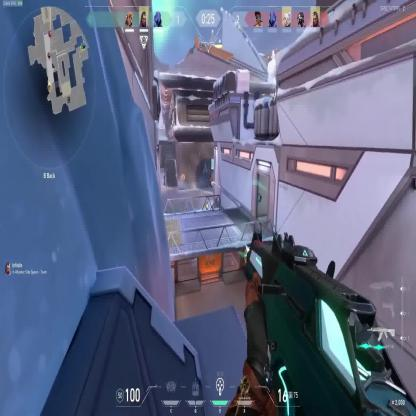enemy: (206, 201, 209, 212), (210, 177, 213, 188)
enemy_head: (206, 202, 208, 204), (210, 177, 211, 180)
